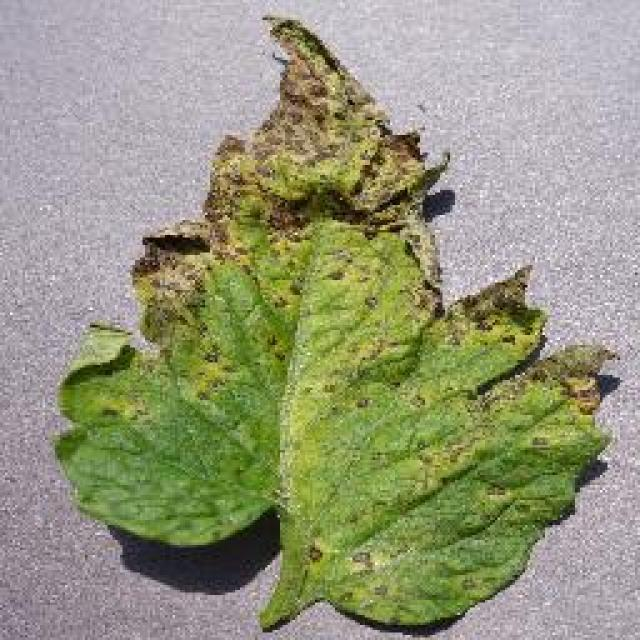Tom_Septoria_leaf_spot: (110, 255, 564, 403), (182, 36, 438, 252)
